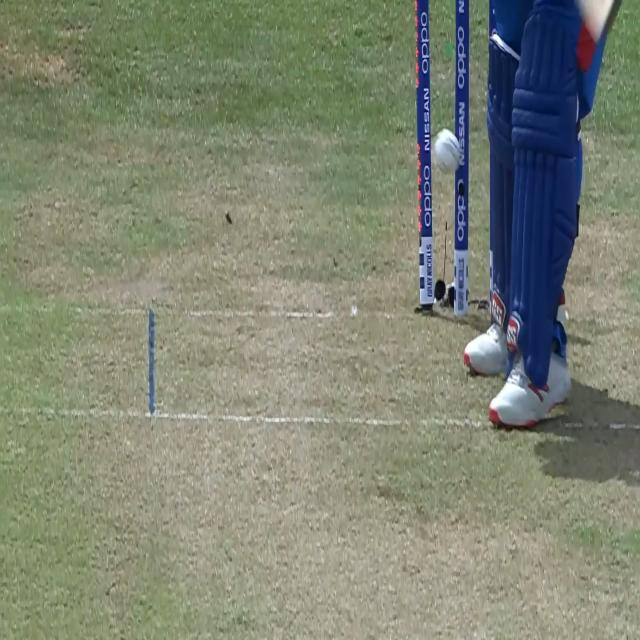ball: (429, 130, 464, 176)
